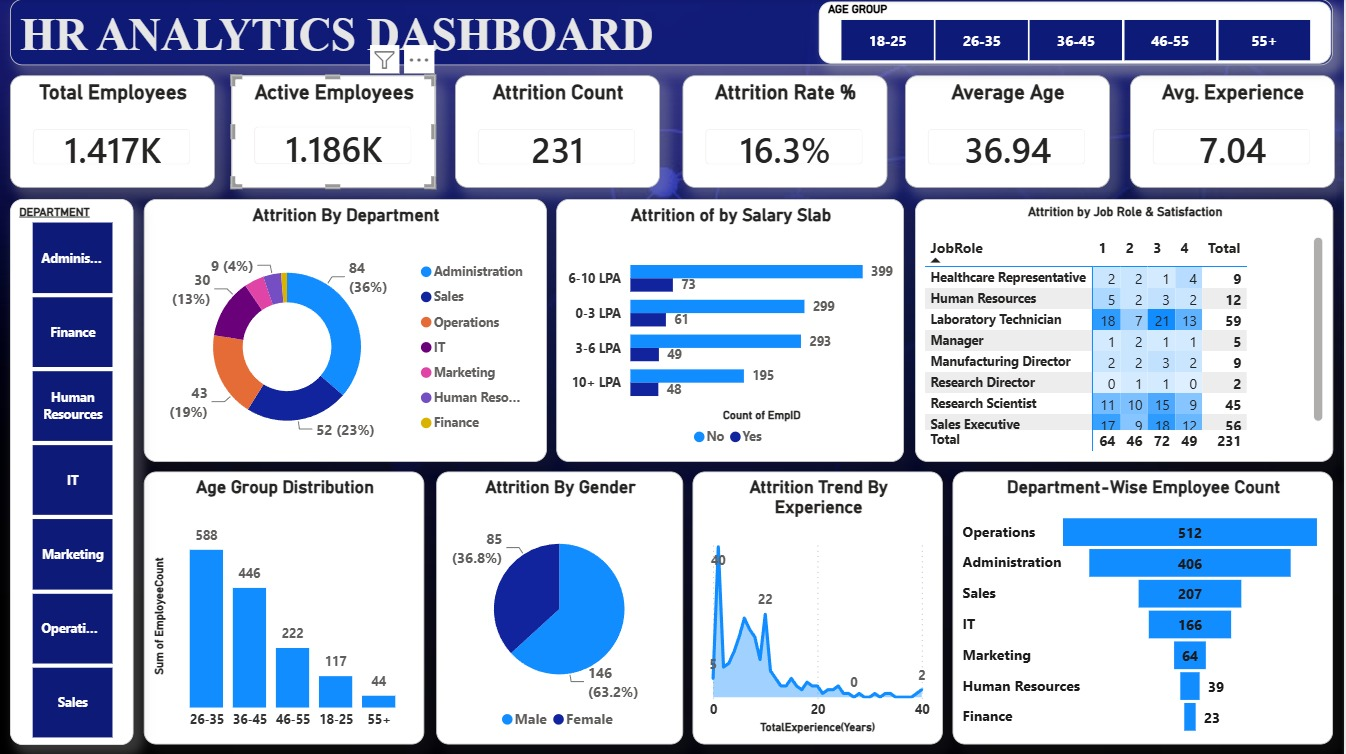

Layout of this report page (visuals, bound fields, positions):
{"tool":"powerbi","page":{"name":"Page 1","canvas":[1280,720],"ordinal":0},"visuals":[{"type":"textbox","box":[9.6,0,1259.7,63.1],"z":0},{"type":"cardVisual","title":"Total Employees","fields":{"Data":["CountNonNull(HR_AnalyticsDataset.EmpID)"]},"box":[9.6,72.7,194.9,107],"z":1000},{"type":"cardVisual","title":"Active Employees","fields":{"Data":["CountNonNull(HR_AnalyticsDataset.EmployeeCount)"]},"box":[220,72.9,194.9,107],"z":2000},{"type":"cardVisual","title":"Attrition Count","fields":{"Data":["Sum(HR_AnalyticsDataset.AttritionCount)"]},"box":[432.9,72.9,194.9,107],"z":3000},{"type":"cardVisual","title":"Attrition Rate %","fields":{"Data":["HR_AnalyticsDataset.Attrition Rate %"]},"box":[650,72.9,194.9,107],"z":4000},{"type":"cardVisual","title":"Average Age","fields":{"Data":["Avg(HR_AnalyticsDataset.Age)"]},"box":[861.4,72.9,194.9,107],"z":5000},{"type":"cardVisual","title":"Avg. Experience","fields":{"Data":["Avg(HR_AnalyticsDataset.YearsatCompany)"]},"box":[1075.7,72.9,194.9,107],"z":6000},{"type":"donutChart","title":"Attrition By Department","fields":{"Category":["HR_AnalyticsDataset.Department"],"Y":["Sum(HR_AnalyticsDataset.AttritionCount)"]},"box":[137.5,190,383.8,250],"z":7000},{"type":"clusteredBarChart","title":"Attrition of by Salary Slab","fields":{"Category":["HR_AnalyticsDataset.SalarySlab"],"Series":["HR_AnalyticsDataset.Attrition"],"Y":["CountNonNull(HR_AnalyticsDataset.EmpID)"]},"box":[530,190,331.2,250],"z":8000},{"type":"pivotTable","title":"Attrition by Job Role & Satisfaction ","fields":{"Columns":["HR_AnalyticsDataset.JobSatisfaction"],"Rows":["HR_AnalyticsDataset.JobRole"],"Values":["Sum(HR_AnalyticsDataset.AttritionCount)"]},"box":[871.2,190,398.8,250],"z":9000},{"type":"columnChart","title":"Age Group Distribution","fields":{"Category":["HR_AnalyticsDataset.AgeGroup"],"Y":["Sum(HR_AnalyticsDataset.EmployeeCount)"]},"box":[137.5,450,267.5,260],"z":9001},{"type":"pieChart","title":"Attrition By Gender","fields":{"Category":["HR_AnalyticsDataset.Gender"],"Y":["Sum(HR_AnalyticsDataset.AttritionCount)"]},"box":[415,450,235,260],"z":9002},{"type":"areaChart","title":"Attrition Trend By Experience","fields":{"Category":["HR_AnalyticsDataset.TotalExperience(Years)"],"Y2":["Sum(HR_AnalyticsDataset.AttritionCount)"]},"box":[660,450,238.8,260],"z":9003},{"type":"funnel","title":"Department-Wise Employee Count","fields":{"Category":["HR_AnalyticsDataset.Department"],"Y":["CountNonNull(HR_AnalyticsDataset.EmpID)"]},"box":[907.5,450,362.5,260],"z":9004},{"type":"slicer","fields":{"Values":["HR_AnalyticsDataset.Department"]},"box":[10,190,117.5,520],"z":9005},{"type":"slicer","fields":{"Values":["HR_AnalyticsDataset.AgeGroup"]},"box":[779.8,2.4,488.1,59.5],"z":9006}]}

Visuals, with their boxes in screenshot pixels (x1, y1, x2, y2), scaled from the page's 1280x720 canvas onto the 1346x754 screenshot:
textbox: detection(10, 0, 1335, 66)
"Total Employees" cardVisual: detection(10, 76, 215, 188)
"Active Employees" cardVisual: detection(231, 76, 436, 188)
"Attrition Count" cardVisual: detection(455, 76, 660, 188)
"Attrition Rate %" cardVisual: detection(684, 76, 888, 188)
"Average Age" cardVisual: detection(906, 76, 1111, 188)
"Avg. Experience" cardVisual: detection(1131, 76, 1336, 188)
"Attrition By Department" donutChart: detection(145, 199, 548, 461)
"Attrition of by Salary Slab" clusteredBarChart: detection(557, 199, 906, 461)
"Attrition by Job Role & Satisfaction " pivotTable: detection(916, 199, 1335, 461)
"Age Group Distribution" columnChart: detection(145, 471, 426, 744)
"Attrition By Gender" pieChart: detection(436, 471, 684, 744)
"Attrition Trend By Experience" areaChart: detection(694, 471, 945, 744)
"Department-Wise Employee Count" funnel: detection(954, 471, 1335, 744)
slicer - HR_AnalyticsDataset.Department: detection(11, 199, 134, 744)
slicer - HR_AnalyticsDataset.AgeGroup: detection(820, 3, 1333, 65)
